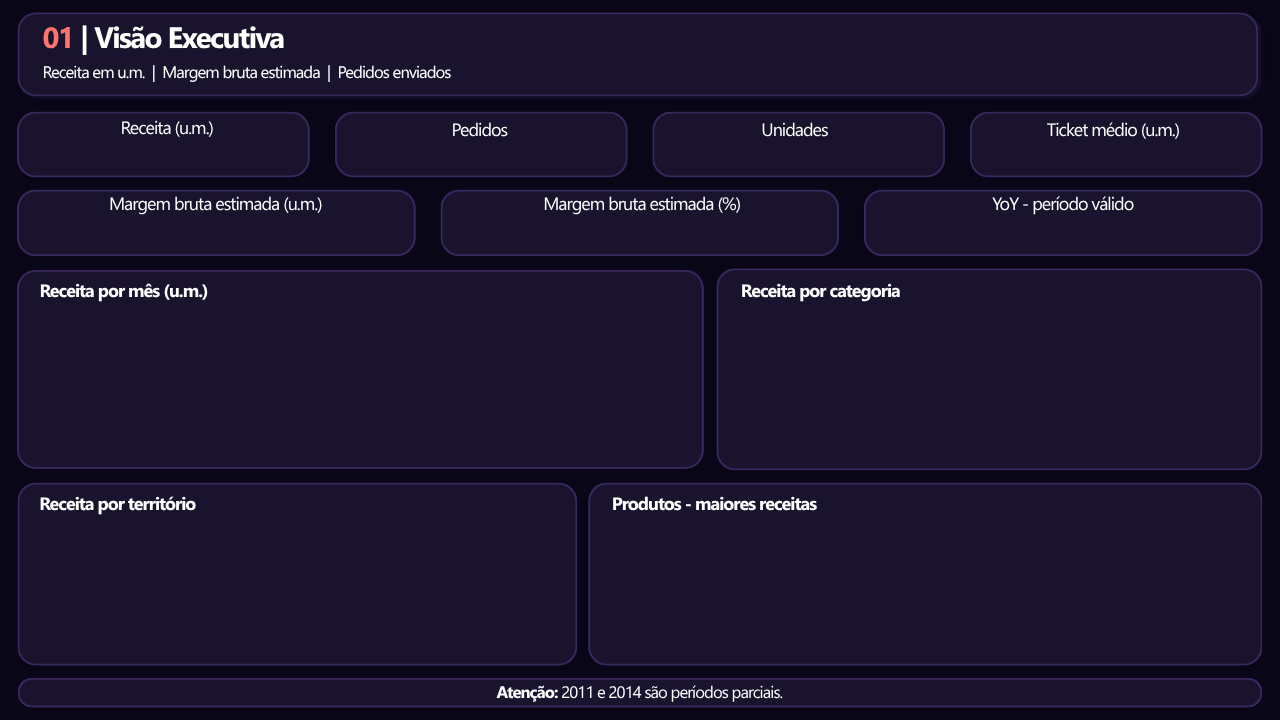

What the dashboard file says about the page in this screenshot:
{"tool":"powerbi","page":{"name":"01 | Visão Executiva","canvas":[1280,720],"ordinal":0},"visuals":[{"type":"slicer","fields":{"Values":["DimCalendario.Ano"]},"box":[822.8,24.1,135.1,56.7],"z":0},{"type":"slicer","fields":{"Values":["DimProduto.Categoria"]},"box":[957.9,24.1,135.1,56.7],"z":1000},{"type":"slicer","fields":{"Values":["DimTerritorio.Territorio"]},"box":[1093,24.1,135.1,56.7],"z":2000},{"type":"card","fields":{"Values":["Medidas.Receita de Produtos"]},"box":[15.7,130,294.3,42.9],"z":3000},{"type":"card","fields":{"Values":["Medidas.Margem Bruta Estimada"]},"box":[15.7,208.6,398.6,45.7],"z":4000},{"type":"card","fields":{"Values":["Medidas.Margem Bruta Estimada %"]},"box":[442.9,212.9,394.3,35.7],"z":5000},{"type":"card","fields":{"Values":["Medidas.Unidades Vendidas"]},"box":[654.3,135.7,290,37.1],"z":6000},{"type":"card","fields":{"Values":["Medidas.Pedidos"]},"box":[335.7,135.7,294.3,37.1],"z":7000},{"type":"card","fields":{"Values":["Medidas.Ticket Médio"]},"box":[972.9,135.7,291.4,37.1],"z":8000},{"type":"card","fields":{"Values":["Medidas.Crescimento YoY %"]},"box":[872.9,212.9,391.4,35.7],"z":9000},{"type":"lineChart","fields":{"Category":["DimCalendario.AnoMes"],"Y":["Medidas.Receita de Produtos"]},"box":[23.3,275.6,664.4,185.6],"z":10000},{"type":"barChart","fields":{"Category":["DimProduto.Categoria"],"Y":["Medidas.Receita de Produtos"]},"box":[721,304,532,157],"z":11000},{"type":"barChart","fields":{"Category":["DimTerritorio.Territorio"],"Y":["Medidas.Receita de Produtos"]},"box":[23.3,512.5,548.3,142.5],"z":12000},{"type":"tableEx","fields":{"Values":["DimProduto.NomeProduto","Medidas.Receita de Produtos","Medidas.Unidades Vendidas","Medidas.Margem Bruta Estimada %","Medidas.Ranking Produto Receita"]},"box":[596.9,513.1,656.2,142.3],"z":13000}]}

Visuals, with their boxes in screenshot pixels (x1, y1, x2, y2), scaled from the page's 1280x720 canvas onto the 1280x720 screenshot:
slicer - DimCalendario.Ano: region(823, 24, 958, 81)
slicer - DimProduto.Categoria: region(958, 24, 1093, 81)
slicer - DimTerritorio.Territorio: region(1093, 24, 1228, 81)
card - Medidas.Receita de Produtos: region(16, 130, 310, 173)
card - Medidas.Margem Bruta Estimada: region(16, 209, 414, 254)
card - Medidas.Margem Bruta Estimada %: region(443, 213, 837, 249)
card - Medidas.Unidades Vendidas: region(654, 136, 944, 173)
card - Medidas.Pedidos: region(336, 136, 630, 173)
card - Medidas.Ticket Médio: region(973, 136, 1264, 173)
card - Medidas.Crescimento YoY %: region(873, 213, 1264, 249)
lineChart - DimCalendario.AnoMes x Medidas.Receita de Produtos: region(23, 276, 688, 461)
barChart - DimProduto.Categoria x Medidas.Receita de Produtos: region(721, 304, 1253, 461)
barChart - DimTerritorio.Territorio x Medidas.Receita de Produtos: region(23, 512, 572, 655)
tableEx - DimProduto.NomeProduto x Medidas.Receita de Produtos: region(597, 513, 1253, 655)
